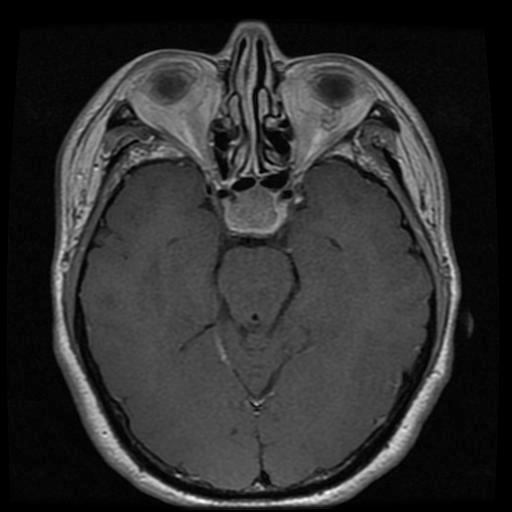Tumour-Pituitary: (199, 166, 311, 242)
